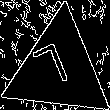L_SE: (36, 40, 81, 98)
